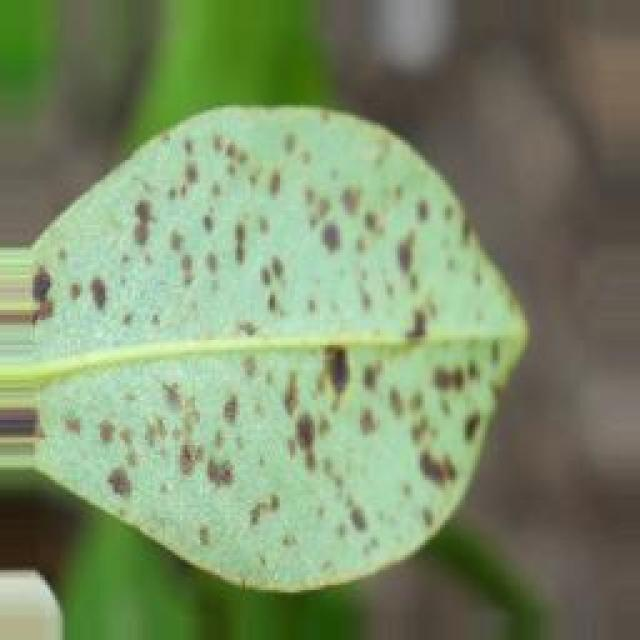Whitefly: (19, 89, 538, 567)
